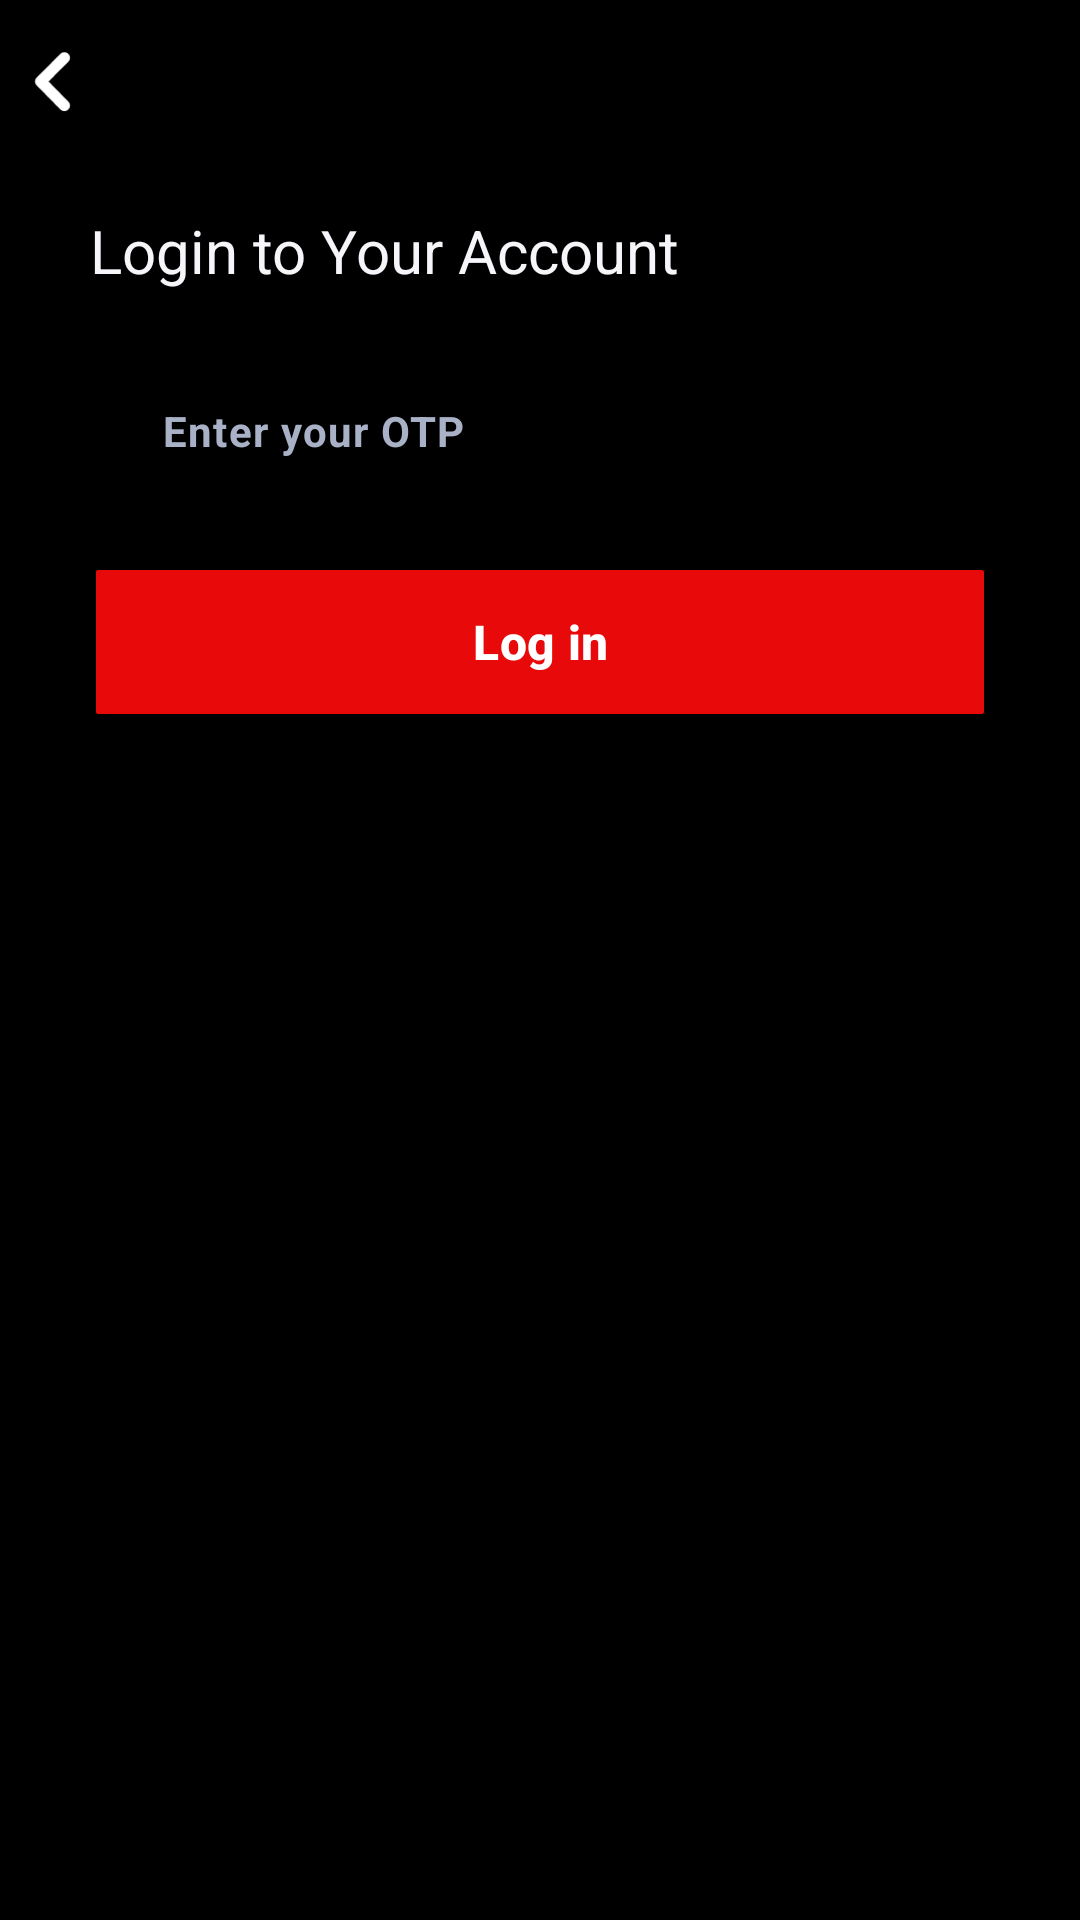

Screen size 1080w x 1920h. Icon name, then its center in pixels as (x=x, y=y):
left arrow: (x=52, y=81)
